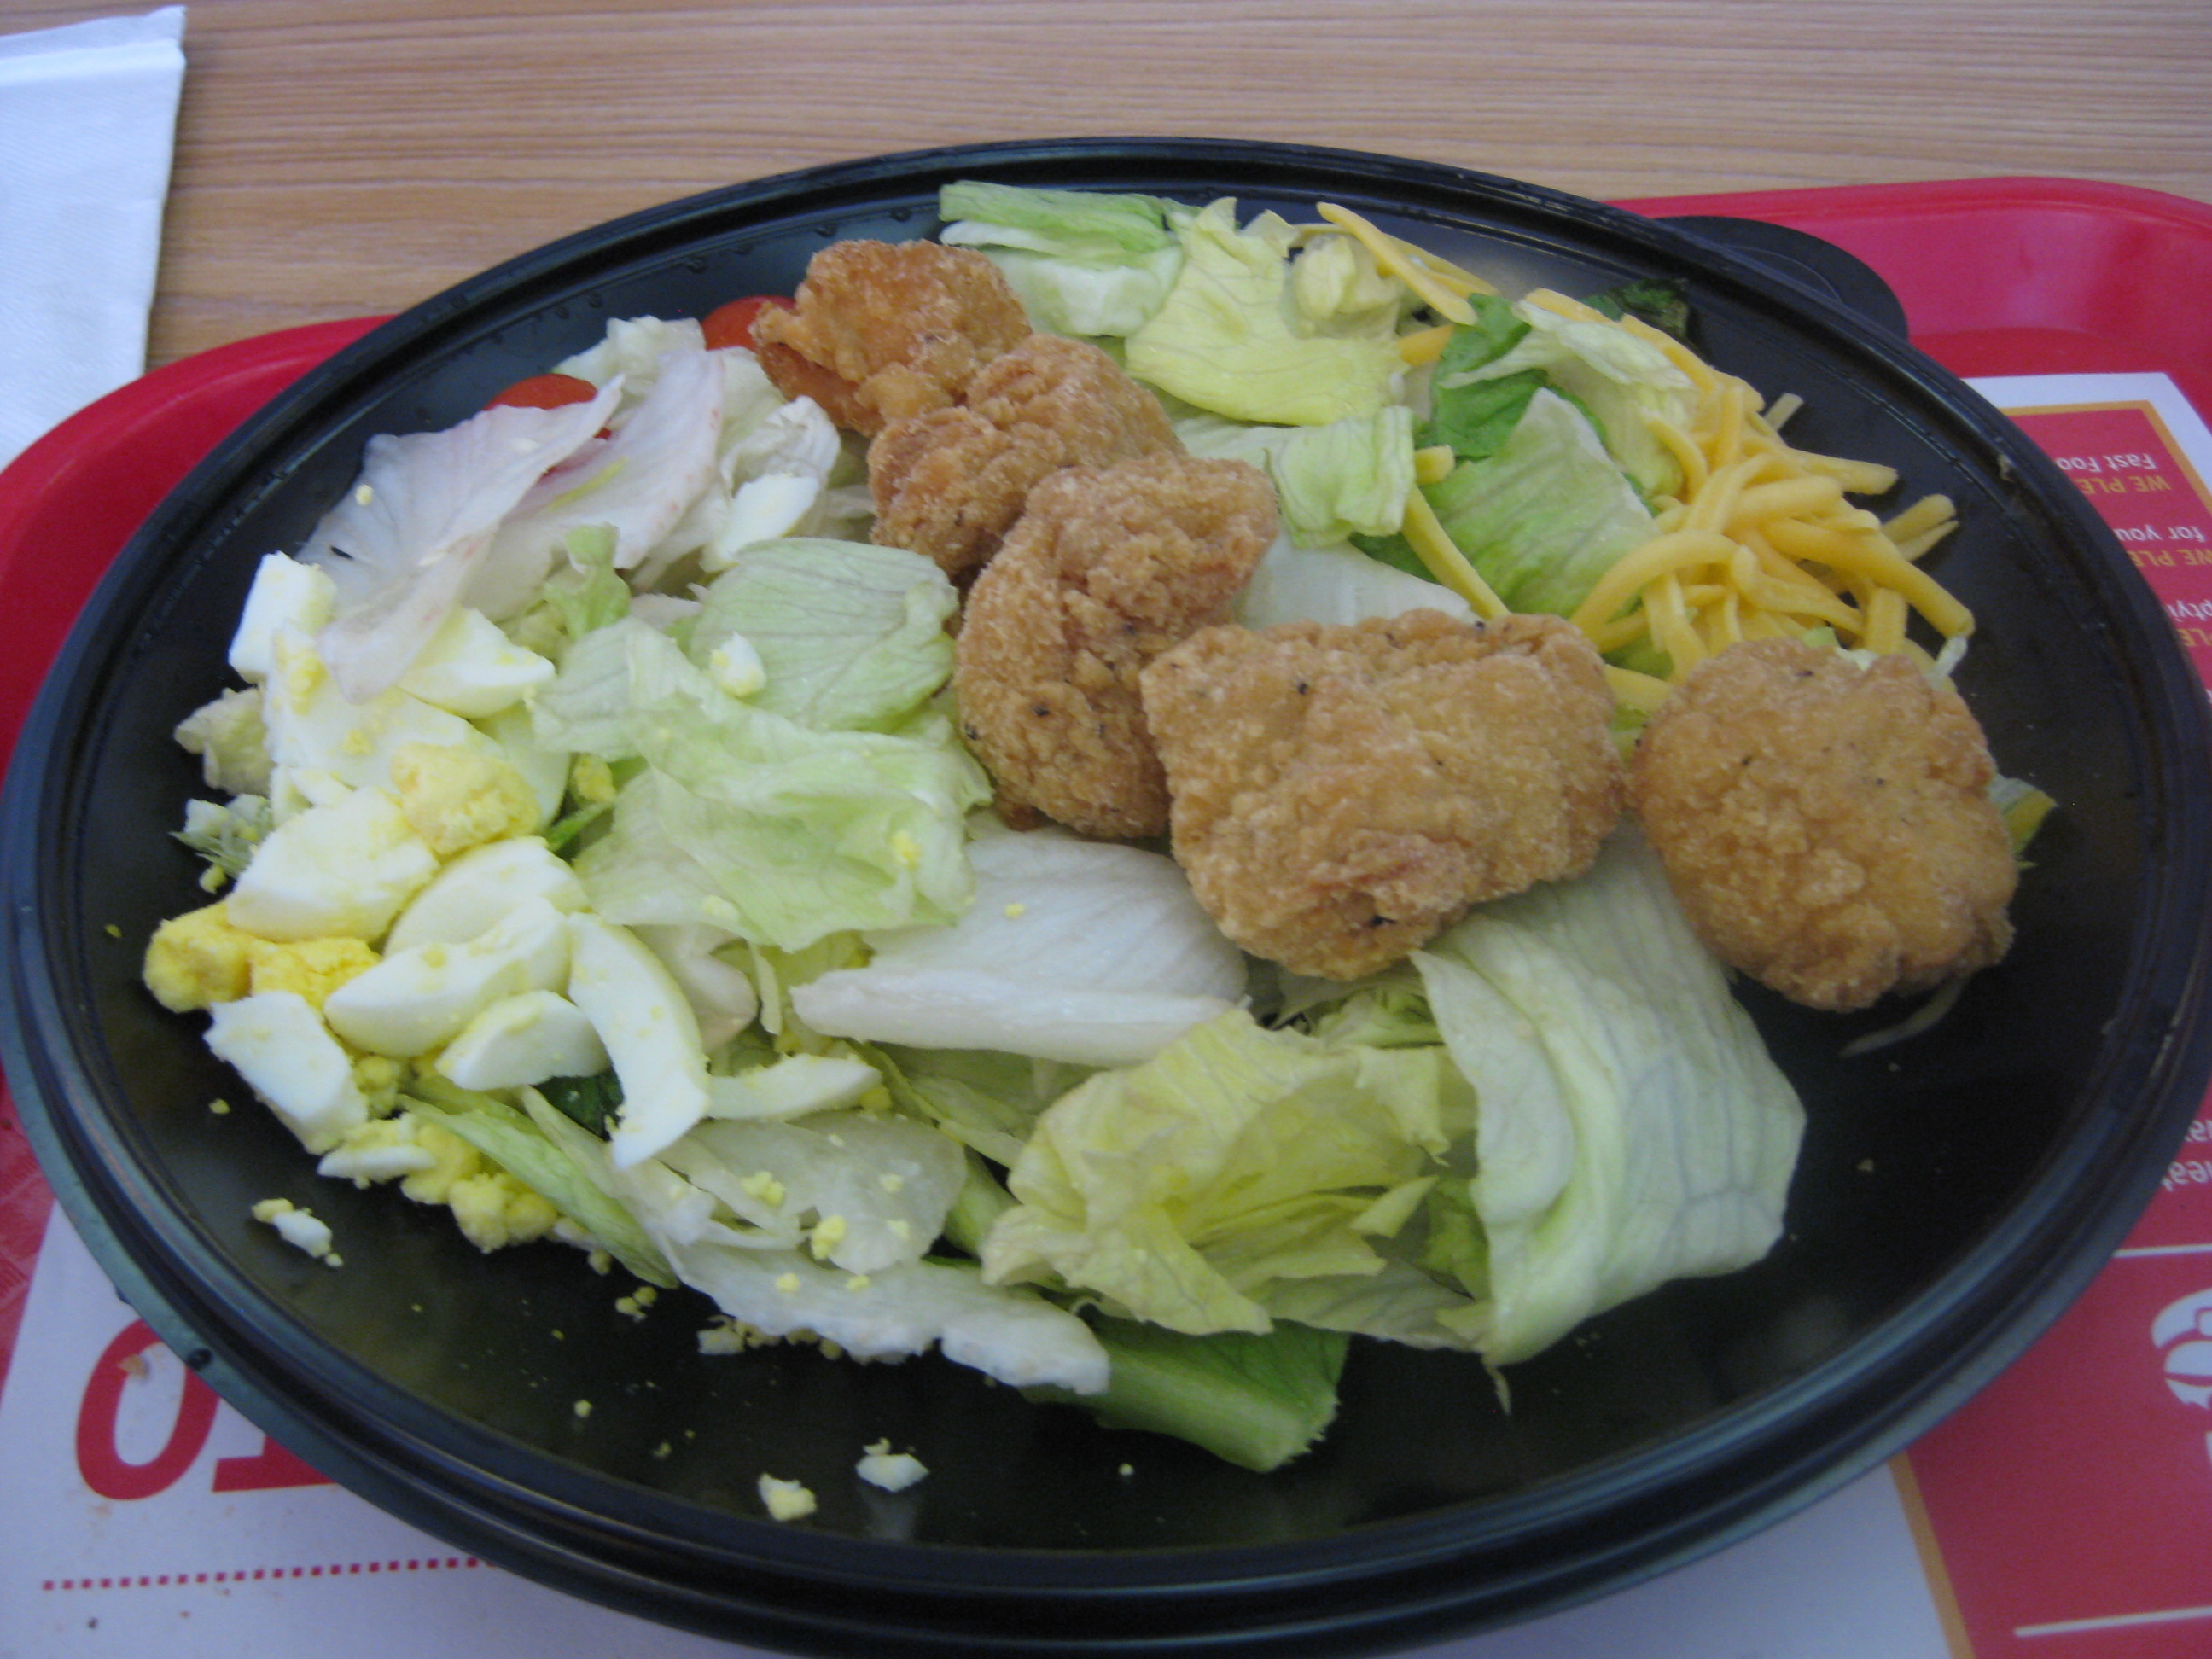salad: (170, 123, 2188, 1478)
